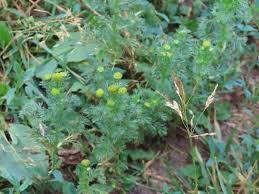pineple: (92, 61, 172, 121), (146, 27, 231, 76), (36, 58, 85, 112)
